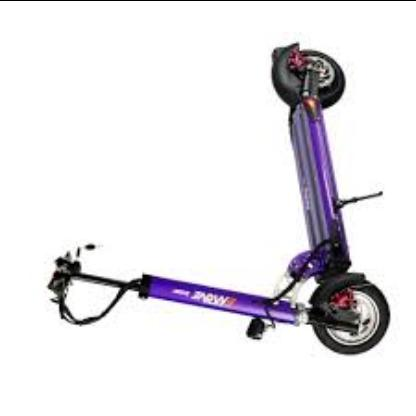bike: (42, 44, 391, 356), (246, 43, 392, 356)
